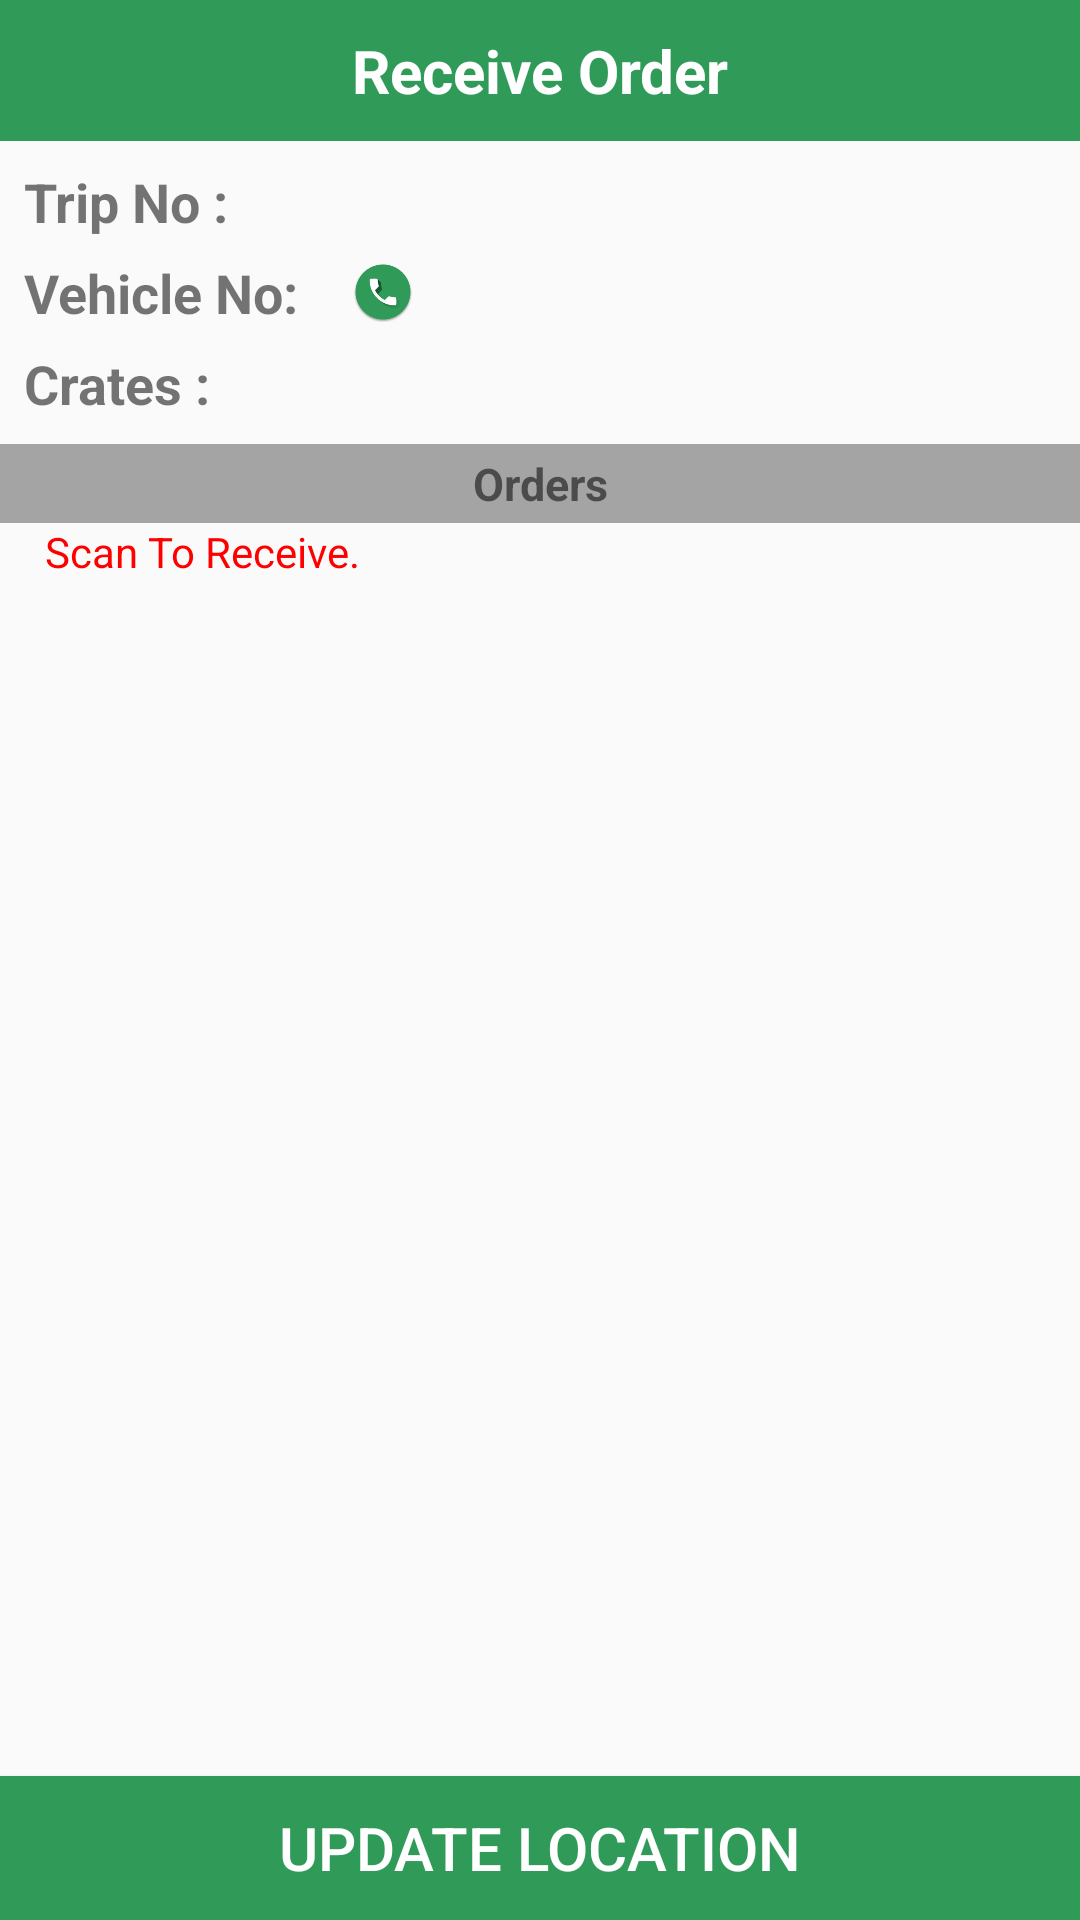

Icon bounding boxes for this 1080 x 1920 phone screenshot, format (x1, y1, x2, y2):
call: (355, 264, 411, 321)
